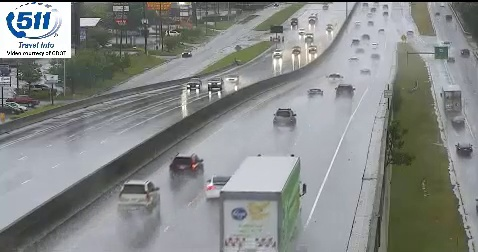car: (118, 182, 160, 211), (170, 154, 203, 178), (207, 177, 233, 198), (274, 108, 296, 126), (335, 84, 354, 100), (308, 89, 323, 100)
small-truck: (219, 156, 299, 252)
